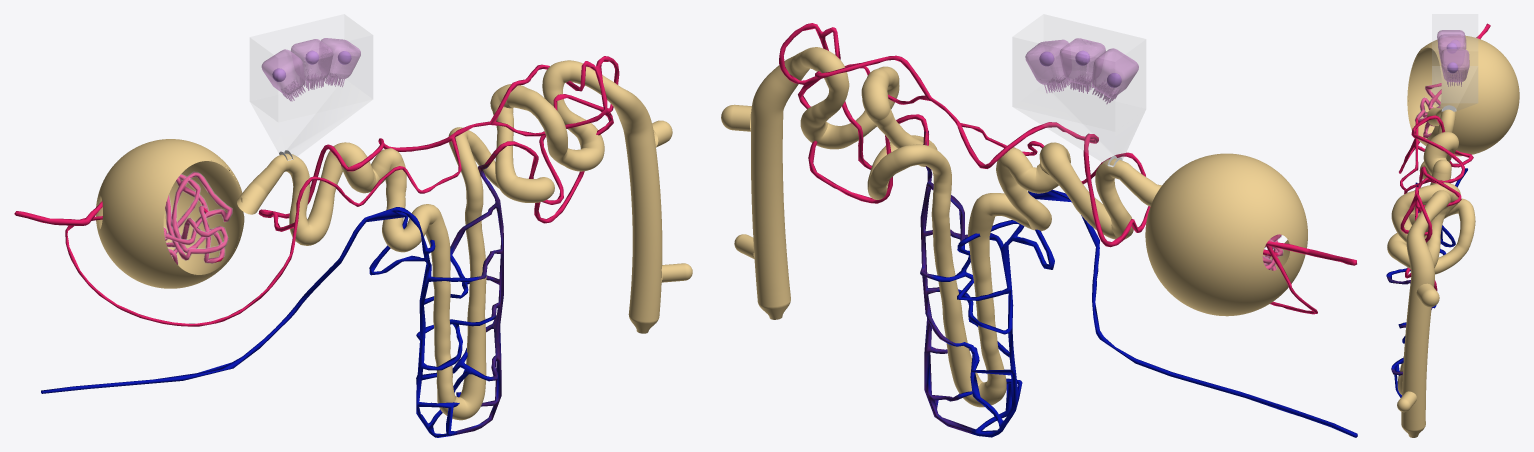
Rendered from nephron_s4.glb.
The picture shows the model from 3 angles, left to right: view 1: azimuth 30°, elevation 25°; view 2: azimuth 150°, elevation 25°; view 3: azimuth 270°, elevation 25°; orthographic projection. The views are drawn at different scales.
Visible parts, largest first — view 1: nephron_mesher_nephron color_0, capillary_artery_artery_0, capillary_vein_vein_0, Cube_Mat.1_0, Pyramid_Mat.1_0, podocytes, cell_left_cell_0, cell_right_cell_0 (×2); view 2: nephron_mesher_nephron color_0, capillary_vein_vein_0, Cube_Mat.1_0, capillary_artery_artery_0, Pyramid_Mat.1_0, cell_right_cell_0 (×2), cell_left_cell_0, cell_middle_cell_0; view 3: nephron_mesher_nephron color_0, Cube_Mat.1_0, capillary_artery_artery_0, Pyramid_Mat.1_0, cell_right_cell_0 (×3), capillary_vein_vein_0, cell_middle_cell_0 (×3), podocytes, cell_left_cell_0.
Boxes of the visible parts, x1,y1,x2,y2 form: nephron_mesher_nephron color_0: (96, 60, 692, 420); capillary_artery_artery_0: (14, 56, 619, 326); capillary_vein_vein_0: (41, 154, 503, 437); Cube_Mat.1_0: (250, 14, 372, 121); Pyramid_Mat.1_0: (250, 80, 372, 158); podocytes: (164, 171, 232, 264); cell_left_cell_0: (261, 49, 305, 101); cell_right_cell_0 (×2): (321, 38, 360, 86); nephron_mesher_nephron color_0: (721, 47, 1307, 407); capillary_vein_vein_0: (920, 131, 1357, 437); Cube_Mat.1_0: (1013, 14, 1145, 130); capillary_artery_artery_0: (779, 23, 1356, 314); Pyramid_Mat.1_0: (1013, 85, 1145, 164); cell_right_cell_0 (×2): (1025, 40, 1070, 93); cell_left_cell_0: (1091, 48, 1138, 104); cell_middle_cell_0: (1059, 44, 1087, 90); nephron_mesher_nephron color_0: (1387, 35, 1519, 437); Cube_Mat.1_0: (1432, 14, 1477, 102); capillary_artery_artery_0: (1399, 23, 1490, 290); Pyramid_Mat.1_0: (1432, 66, 1477, 110); cell_right_cell_0 (×3): (1441, 49, 1469, 86); capillary_vein_vein_0: (1386, 168, 1467, 397); cell_middle_cell_0 (×3): (1438, 34, 1465, 62); podocytes: (1414, 85, 1440, 137); cell_left_cell_0: (1437, 30, 1465, 53).
Bounding box in the file's own units: 1014 × 639 × 233.
8 materials, 1 textured.
